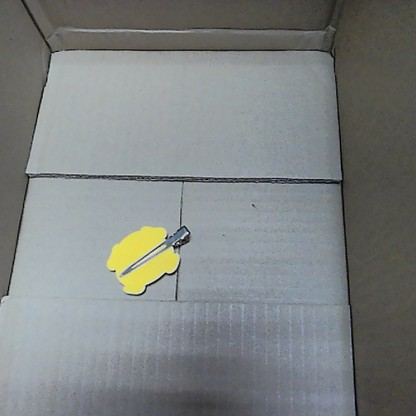dogclip: (106, 216, 188, 295)
